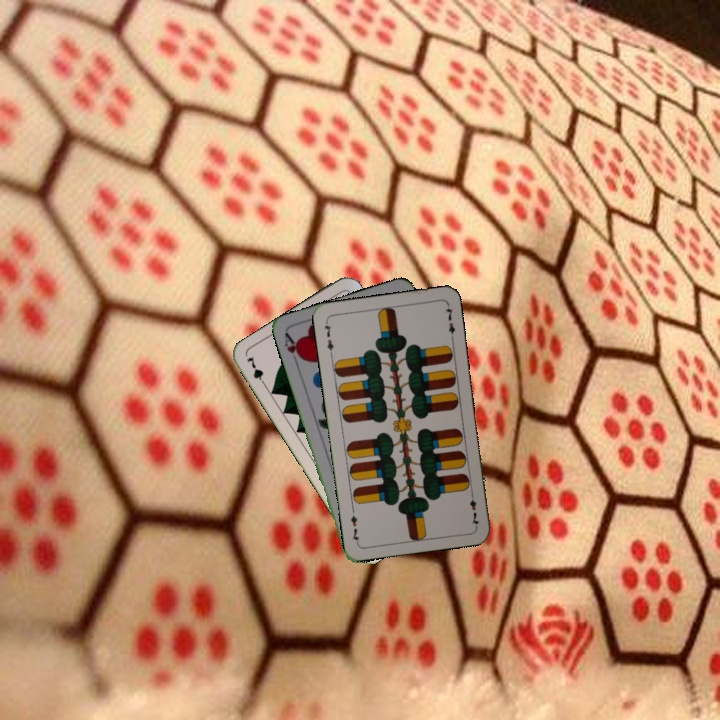E7: (320, 317, 336, 358), (466, 488, 482, 528)
G7: (243, 351, 269, 390)
HA: (280, 329, 306, 369)
